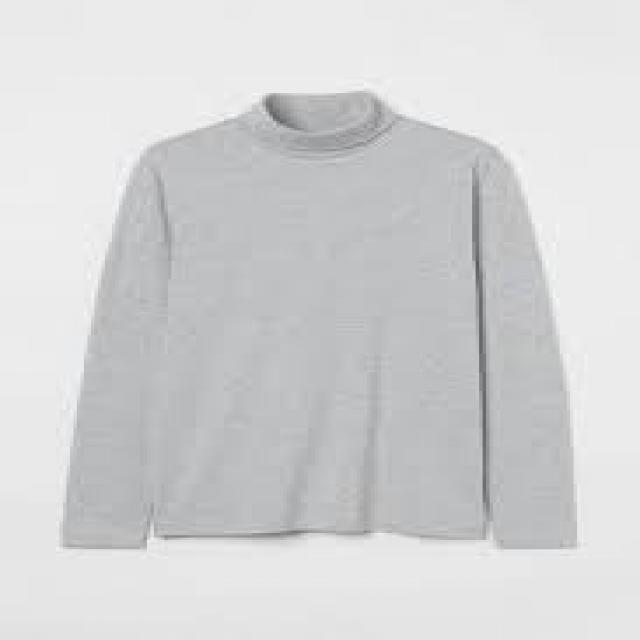plain: (63, 88, 582, 550)
